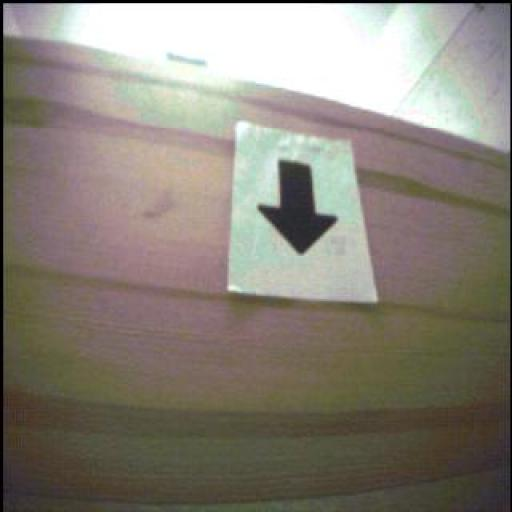Arrow: (259, 161, 339, 255)
